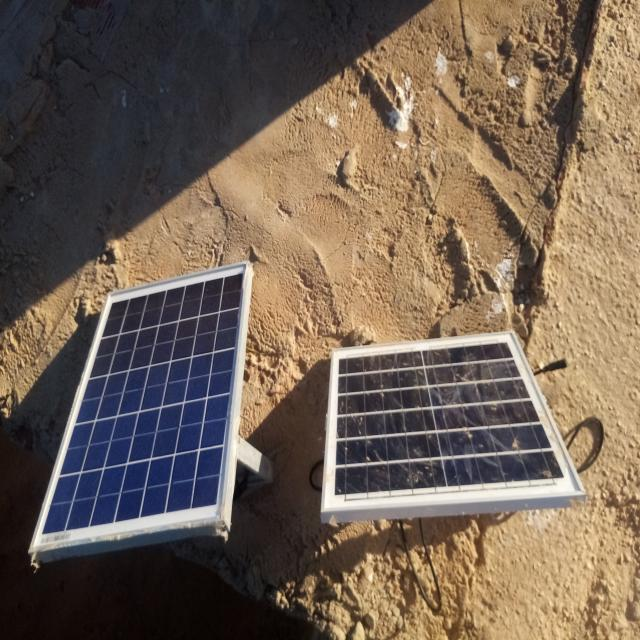faulty: (324, 331, 582, 513)
no faulty: (32, 264, 250, 550)
